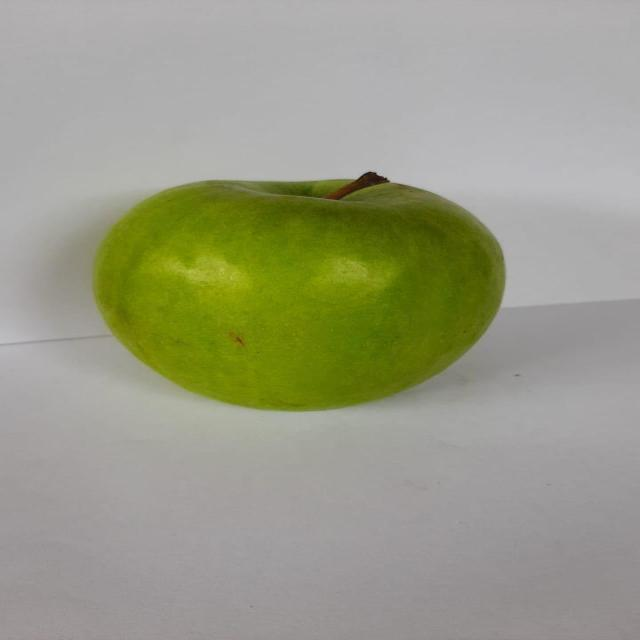Rotten Apple: (62, 158, 518, 419)
